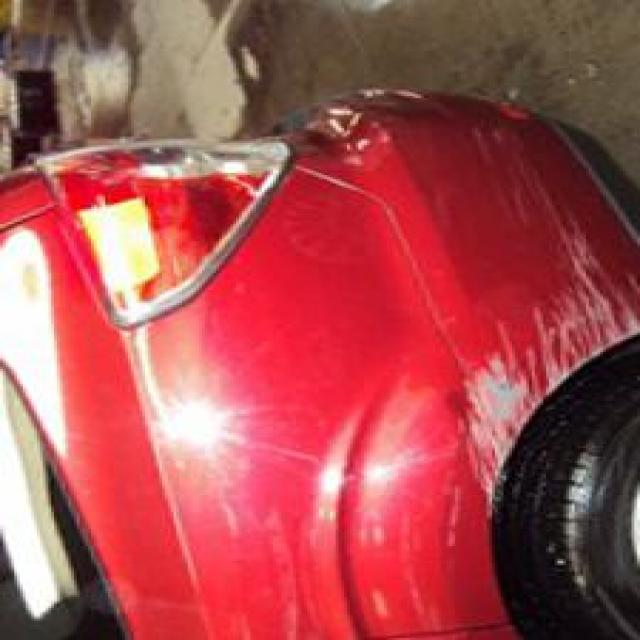scratch: (448, 218, 624, 512)
